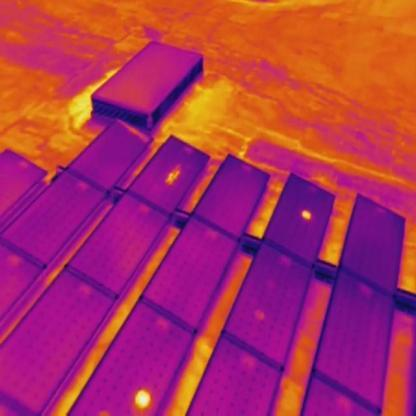anomaly: (131, 388, 154, 413), (165, 162, 182, 187), (300, 207, 313, 225)
